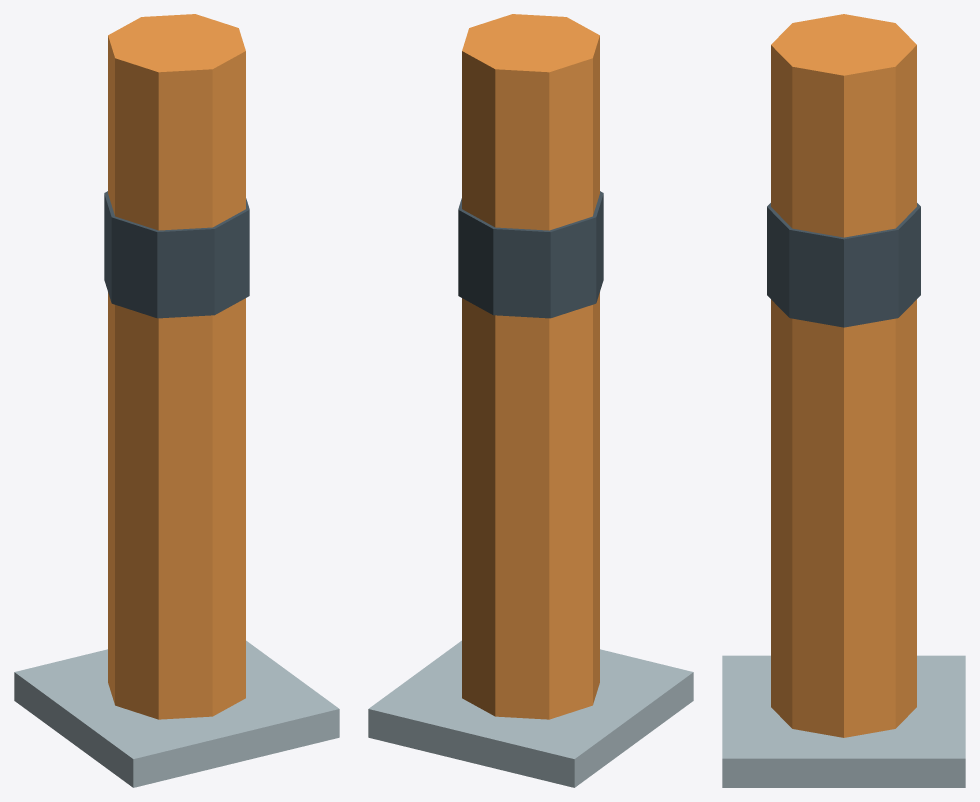
File: safety-bollard.glb
3 views of the same model, side by side, from view 1: azimuth 30°, elevation 25°; view 2: azimuth 150°, elevation 25°; view 3: azimuth 270°, elevation 25° (orthographic). The views are drawn at different scales.
Visible parts, largest first — view 1: orange, steel, dark; view 2: orange, steel, dark; view 3: orange, steel, dark.
Boxes of the visible parts, x1,y1,x2,y2 form: orange: (108, 14, 245, 719); steel: (14, 640, 339, 787); dark: (104, 191, 249, 318); orange: (462, 14, 599, 719); steel: (368, 640, 693, 787); dark: (458, 191, 603, 318); orange: (771, 14, 916, 737); steel: (722, 655, 965, 787); dark: (767, 203, 920, 327).
Bounding box in the file's own units: 0.3 × 0.94 × 0.3.
